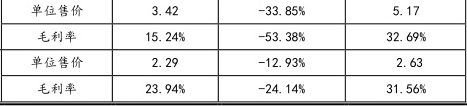column: (32, 1, 83, 106), (259, 1, 306, 105), (386, 2, 427, 106), (146, 1, 186, 105)
row: (1, 56, 467, 68), (1, 83, 467, 95), (3, 4, 467, 16), (1, 31, 467, 42)
